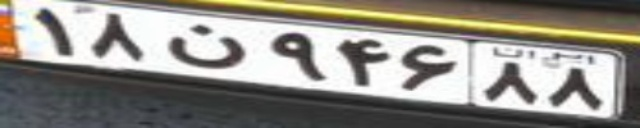1: (33, 6, 72, 55)
4: (332, 39, 388, 86)
6: (399, 43, 456, 92)
8: (85, 13, 143, 59), (544, 66, 604, 110), (479, 61, 535, 103)
9: (267, 31, 322, 81)
non: (168, 24, 241, 69)
